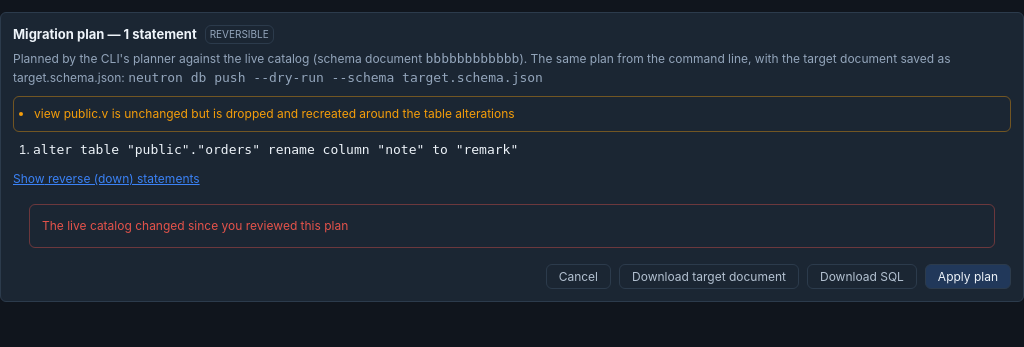
Test: PlanReview (S05) › renders planner warnings, down statements on demand, and an apply error
expect the list item "dropped and recreated" is shown: met, box [34,106,515,120]
expect the message shows "changed since you reviewed": met, box [42,218,348,233]
Click the button "Show reverse (down) statements". click: (106, 178)
box: [13,171,200,186]
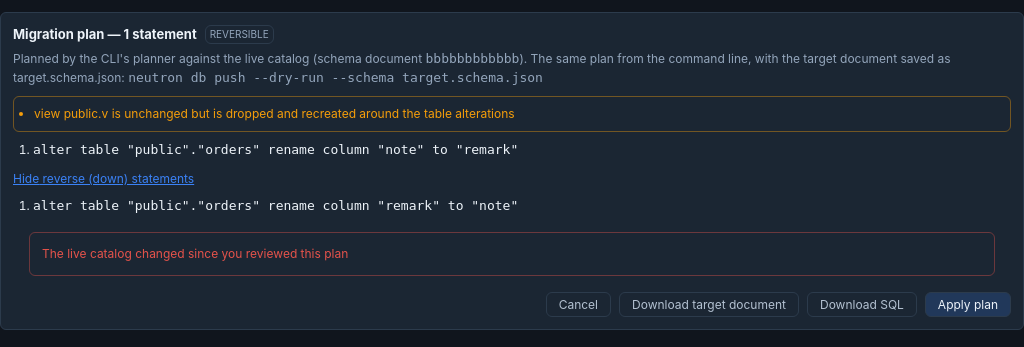
expect the text "rename column \"remark\" to \"note\"" is shown: met, box [33,198,518,213]
